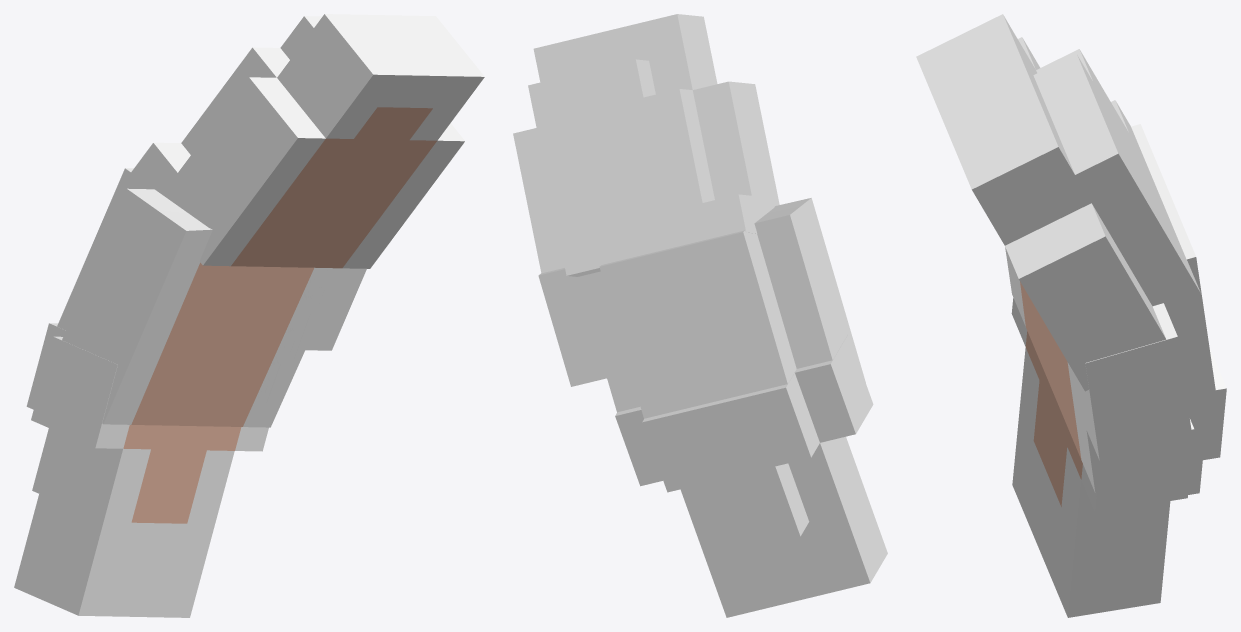
File: BunnyEar_nojoint.glb
The picture shows the model from 3 angles, left to right: view 1: azimuth 30°, elevation 25°; view 2: azimuth 150°, elevation 25°; view 3: azimuth 270°, elevation 25°; orthographic projection. The views are drawn at different scales.
Visible parts, largest first — view 1: L-Ear3-Local, L-Ear2-Local, L-Ear-Local; view 2: L-Ear3-Local, L-Ear2-Local, L-Ear-Local; view 3: L-Ear3-Local, L-Ear-Local, L-Ear2-Local.
Part boxes in pixels (left/top/right/bottom): L-Ear3-Local: left=129, top=14, right=484, bottom=268; L-Ear2-Local: left=57, top=168, right=366, bottom=427; L-Ear-Local: left=14, top=323, right=268, bottom=617; L-Ear3-Local: left=513, top=14, right=779, bottom=276; L-Ear2-Local: left=538, top=198, right=865, bottom=418; L-Ear-Local: left=615, top=334, right=887, bottom=617; L-Ear3-Local: left=916, top=14, right=1200, bottom=391; L-Ear-Local: left=1011, top=298, right=1226, bottom=617; L-Ear2-Local: left=1005, top=124, right=1219, bottom=493.
Bounding box in the file's own units: 10.8 × 15.03 × 6.41.
Materials: 1 (1 with a texture image).
